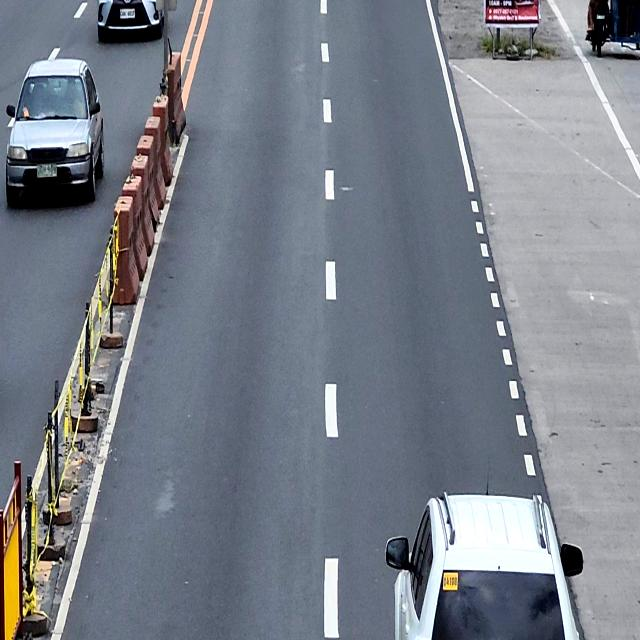Car: (385, 491, 584, 638), (5, 57, 104, 206), (97, 0, 164, 42)
License-Plate: (36, 162, 58, 178), (120, 8, 135, 19)
